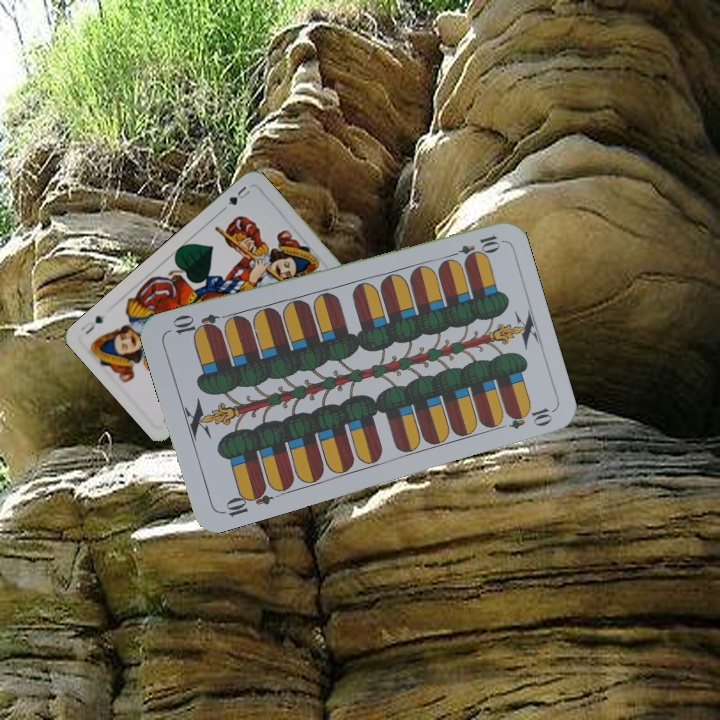E10: (217, 482, 275, 520), (444, 230, 502, 262)
GU: (224, 182, 253, 208)
